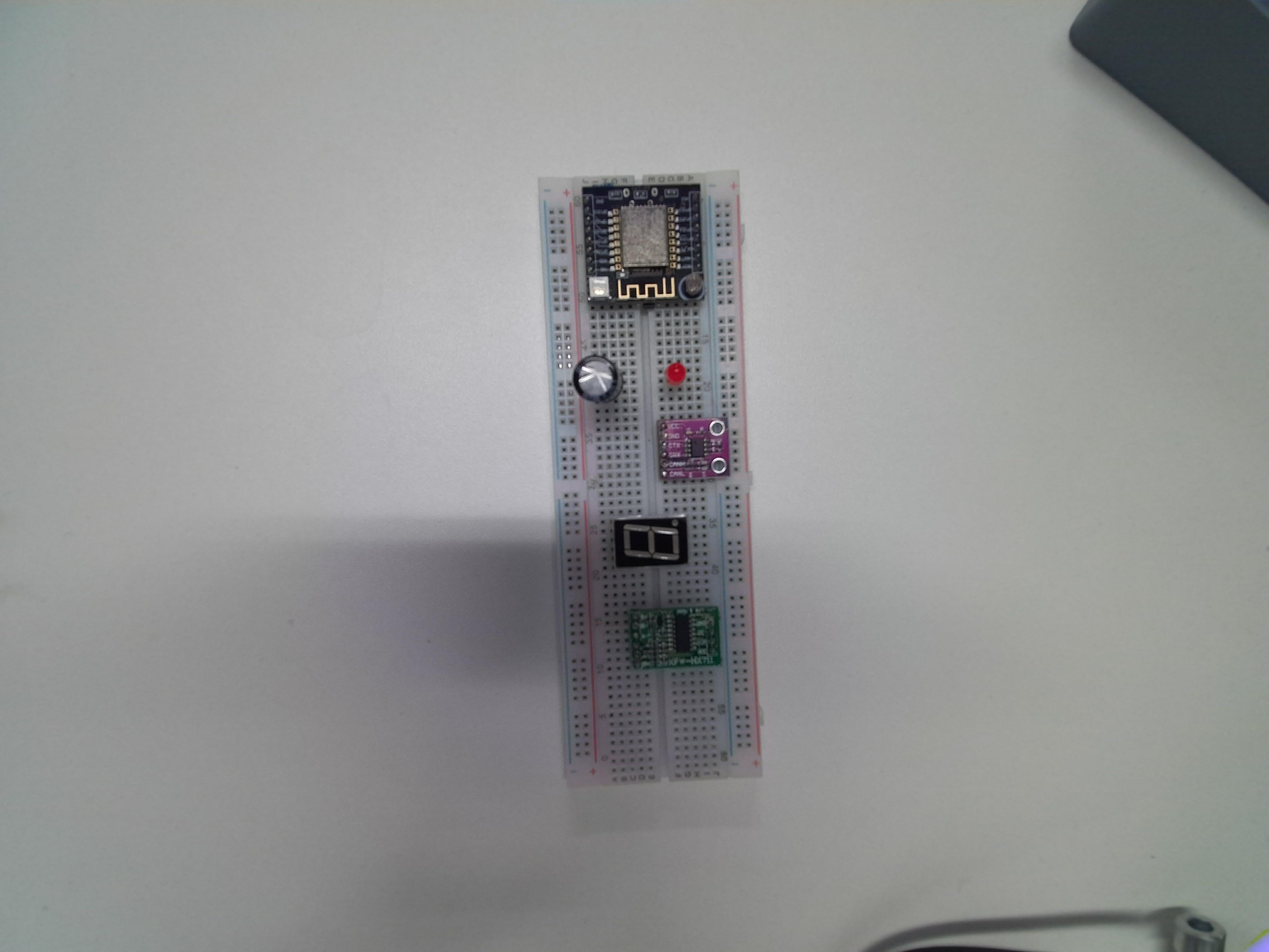base: (537, 170, 756, 796)
capacitor: (570, 352, 620, 406)
digit-board: (613, 516, 691, 566)
esp: (580, 177, 706, 312)
green-board: (620, 603, 727, 677)
purple-board: (654, 412, 735, 483)
red-led: (666, 357, 693, 391)
